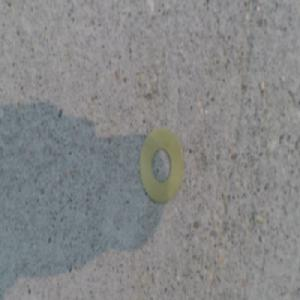Washer: (139, 125, 183, 202)
